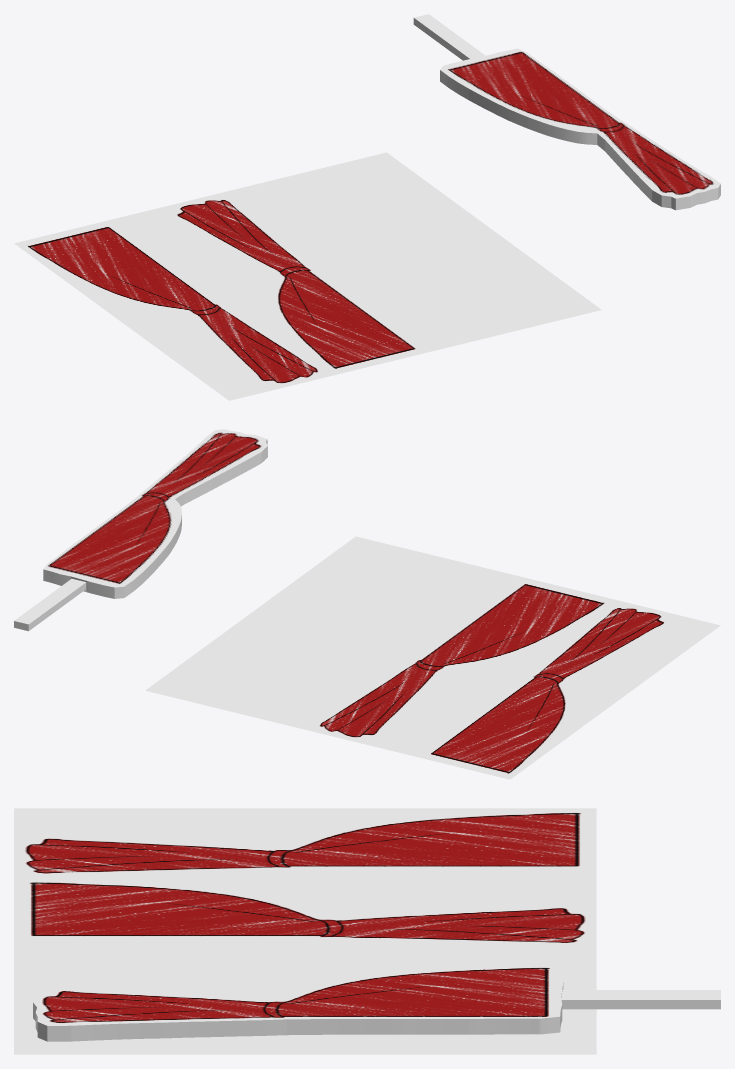
Rendered from curtain.fbx.
The picture shows the model from 3 angles, top to bottom: view 1: azimuth 30°, elevation 25°; view 2: azimuth 150°, elevation 25°; view 3: azimuth 270°, elevation 25°; orthographic projection. The views are drawn at different scales.
Visible parts, largest first — view 1: pPlane1, curtain1; view 2: pPlane1, curtain1; view 3: pPlane1, curtain1.
Part boxes in pixels (x1,y1,x2,y2): pPlane1: (14,152,601,400); curtain1: (413,14,720,210); pPlane1: (145,536,720,779); curtain1: (14,429,267,631); pPlane1: (14,808,596,1054); curtain1: (33,963,720,1041).
Size of the model in its own units: 15.22 by 2.46 by 13.65.
2 materials, 2 textured.
